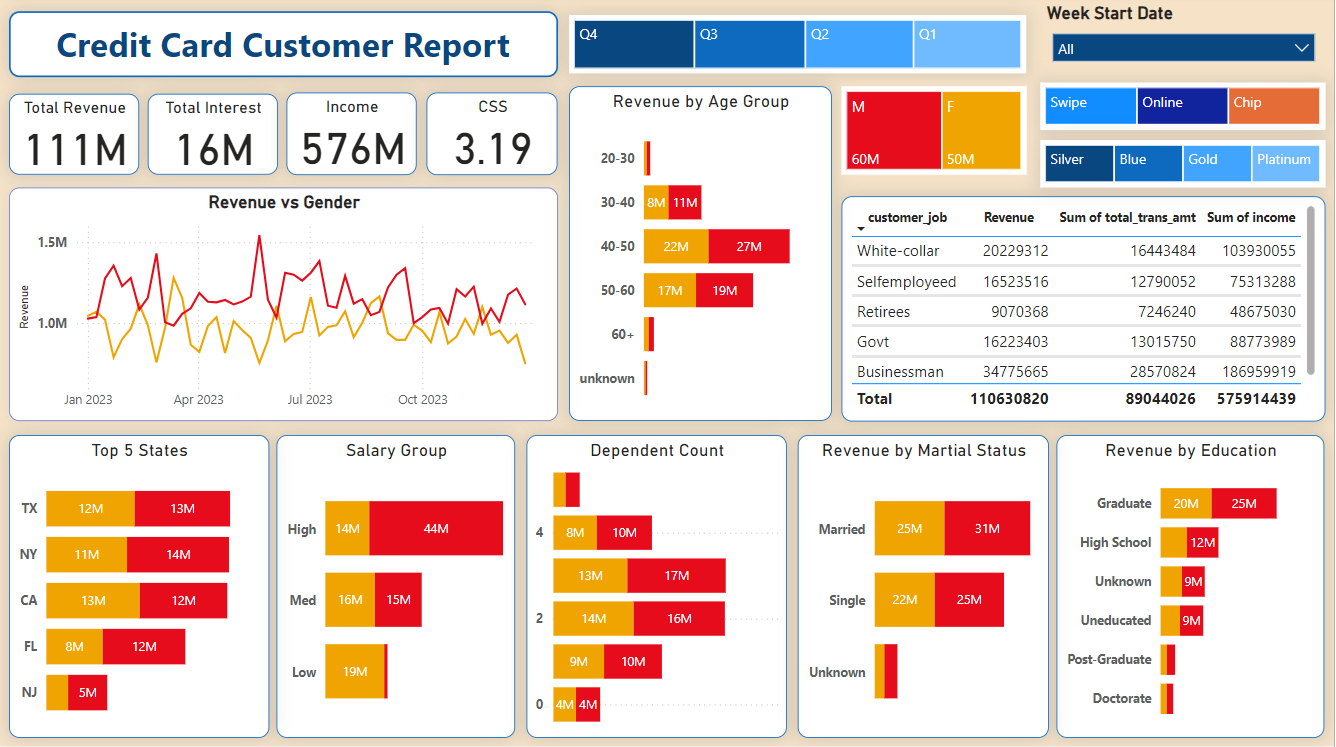

This screenshot's page, from the dashboard's own definition file:
{"tool":"powerbi","page":{"name":"CC Customer","canvas":[1280,720],"ordinal":2},"visuals":[{"type":"textbox","box":[9.6,16,526.1,63],"z":0},{"type":"barChart","title":"Salary Group","fields":{"Y":["Sum(public cc_detail.Revenue)"],"Category":["public cust_detail.IncomeGroup"],"Series":["public cust_detail.gender"]},"box":[266.1,421.9,228.9,290],"z":1000},{"type":"tableEx","fields":{"Values":["public cust_detail.customer_job","Sum(public cc_detail.Revenue)","Sum(public cc_detail.total_trans_amt)","public cust_detail.income"]},"box":[807.8,193,463.8,215.7],"z":2000},{"type":"card","title":"Total Revenue","fields":{"Values":["Sum(public cc_detail.Revenue)"]},"box":[9.6,94.7,124.6,77.9],"z":3000},{"type":"card","title":"Total Interest","fields":{"Values":["Sum(public cc_detail.interest_earned)"]},"box":[142.6,94.7,124.6,77.9],"z":4000},{"type":"card","title":"Income","fields":{"Values":["Sum(public cust_detail.income)"]},"box":[275.7,93.5,124.6,79.1],"z":5000},{"type":"card","title":"CSS","fields":{"Values":["Avg(public cust_detail.cust_satisfaction_score)"]},"box":[409.9,93.5,125.8,79.1],"z":6000},{"type":"slicer","title":"Week Start Date","fields":{"Values":["public cc_detail.week_start_date"]},"box":[999.6,7.2,272.1,68.3],"z":7000},{"type":"treemap","fields":{"Group":["public cc_detail.qtr"],"Values":["Avg(public cc_detail.client_num)"]},"box":[546.5,19.2,438.7,56.3],"z":8000},{"type":"treemap","fields":{"Values":["Avg(public cc_detail.client_num)"],"Group":["public cc_detail.use_chip"]},"box":[998.4,83.9,273.3,45.5],"z":9000},{"type":"treemap","fields":{"Values":["Avg(public cc_detail.client_num)"],"Group":["public cc_detail.card_category"]},"box":[998.4,139,273.3,45.5],"z":10000},{"type":"barChart","title":" Revenue by Age Group","fields":{"Y":["Sum(public cc_detail.Revenue)"],"Category":["public cust_detail.AgeGroup"],"Series":["public cust_detail.gender"]},"box":[546.5,87.5,251.7,321.2],"z":11000},{"type":"barChart","title":"Dependent Count","fields":{"Y":["Sum(public cc_detail.Revenue)"],"Category":["public cust_detail.dependent_count"],"Series":["public cust_detail.gender"]},"box":[505.8,421.9,249.3,290],"z":12000},{"type":"barChart","title":" Revenue by Education","fields":{"Y":["Sum(public cc_detail.Revenue)"],"Category":["public cust_detail.education_level"],"Series":["public cust_detail.gender"]},"box":[1014.2,421.7,256.7,290.6],"z":13000},{"type":"lineChart","title":"Revenue vs Gender","fields":{"Y":["Sum(public cc_detail.Revenue)"],"Series":["public cust_detail.gender"],"Category":["public cc_detail.week_start_date.Variation.Date Hierarchy.Year","public cc_detail.week_start_date.Variation.Date Hierarchy.Month","public cc_detail.week_start_date.Variation.Date Hierarchy.Day"]},"box":[9.6,184.6,526.1,224.1],"z":14000},{"type":"barChart","title":" Revenue by Martial Status","fields":{"Y":["Sum(public cc_detail.Revenue)"],"Category":["public cust_detail.marital_status"],"Series":["public cust_detail.gender"]},"box":[765.8,421.9,240.9,290],"z":15000},{"type":"barChart","title":"Top 5 States","fields":{"Y":["Sum(public cc_detail.Revenue)"],"Category":["public cust_detail.state_cd"],"Series":["public cust_detail.gender"]},"box":[9.6,421.9,249.3,290],"z":15001},{"type":"treemap","fields":{"Group":["public cust_detail.gender"],"Values":["Sum(public cc_detail.Revenue)"]},"box":[807.8,87.5,177.4,85.1],"z":15002}]}

Visuals, with their boxes in screenshot pixels (x1, y1, x2, y2), scaled from the page's 1280x720 canvas onto the 1336x747 screenshot:
textbox: <region>10, 17, 559, 82</region>
"Salary Group" barChart: <region>278, 438, 517, 739</region>
tableEx - public cust_detail.customer_job x Sum(public cc_detail.Revenue): <region>843, 200, 1327, 424</region>
"Total Revenue" card: <region>10, 98, 140, 179</region>
"Total Interest" card: <region>149, 98, 279, 179</region>
"Income" card: <region>288, 97, 418, 179</region>
"CSS" card: <region>428, 97, 559, 179</region>
"Week Start Date" slicer: <region>1043, 7, 1327, 78</region>
treemap - public cc_detail.qtr x Avg(public cc_detail.client_num): <region>570, 20, 1028, 78</region>
treemap - Avg(public cc_detail.client_num) x public cc_detail.use_chip: <region>1042, 87, 1327, 134</region>
treemap - Avg(public cc_detail.client_num) x public cc_detail.card_category: <region>1042, 144, 1327, 191</region>
" Revenue by Age Group" barChart: <region>570, 91, 833, 424</region>
"Dependent Count" barChart: <region>528, 438, 788, 739</region>
" Revenue by Education" barChart: <region>1059, 438, 1327, 739</region>
"Revenue vs Gender" lineChart: <region>10, 192, 559, 424</region>
" Revenue by Martial Status" barChart: <region>799, 438, 1051, 739</region>
"Top 5 States" barChart: <region>10, 438, 270, 739</region>
treemap - public cust_detail.gender x Sum(public cc_detail.Revenue): <region>843, 91, 1028, 179</region>
